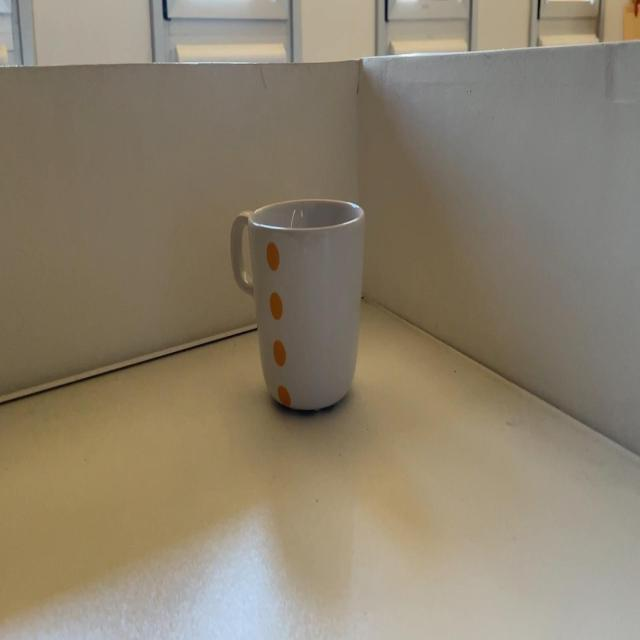cup: (226, 189, 371, 411)
